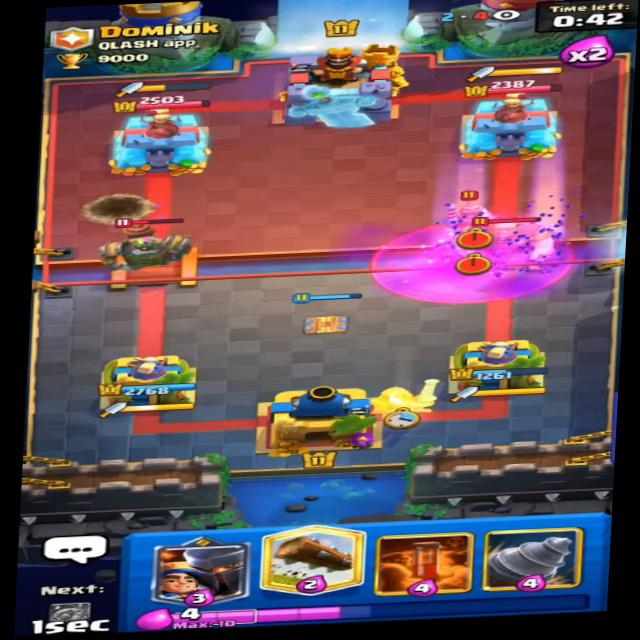giant: (452, 209, 568, 272)
goblin-machine: (95, 210, 204, 279)
prince: (440, 189, 504, 240)
